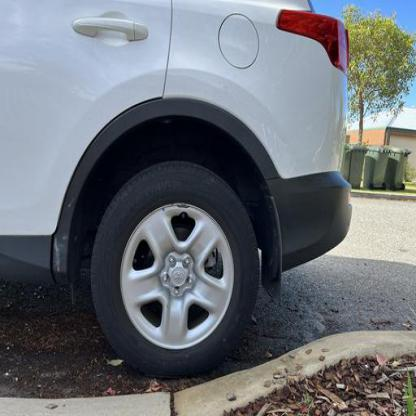Tire: (87, 158, 261, 380)
